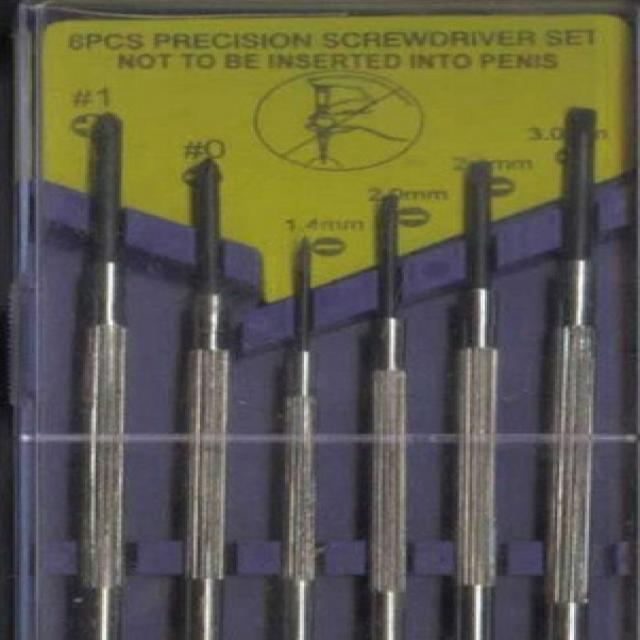screw driver: (54, 97, 188, 640), (522, 90, 602, 624), (251, 224, 335, 640), (178, 122, 240, 636), (355, 161, 421, 640)
